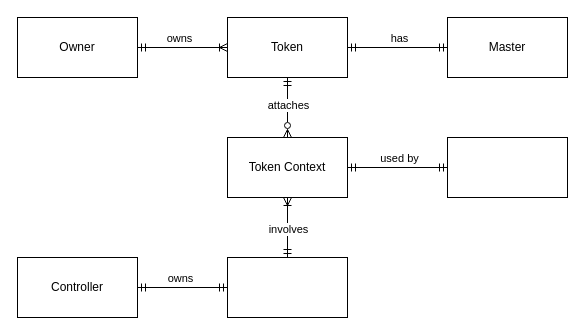
This 585x335 diagram has some shape labels left out. The shapes that lost their labels are listed below. From the top down, each one's box as (x1, y1, x2, y2) in pixels, then its label:
(446, 136, 568, 198): User
(226, 256, 348, 318): Context
